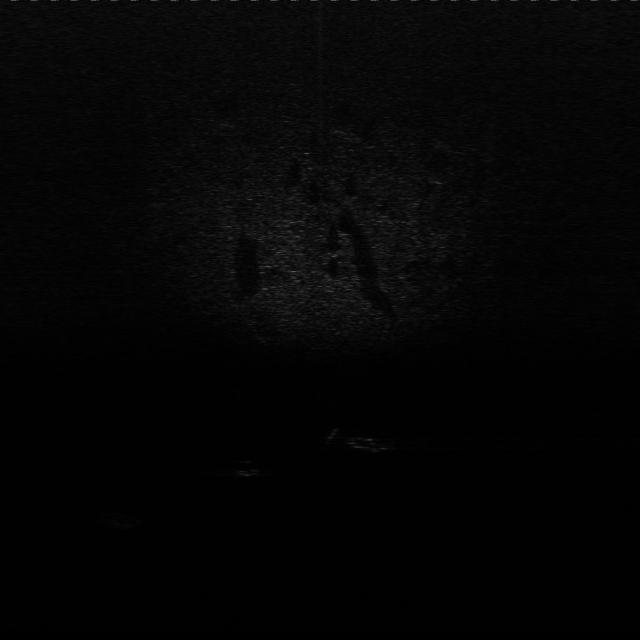ball: (232, 455, 264, 479)
human body: (327, 425, 407, 456)
